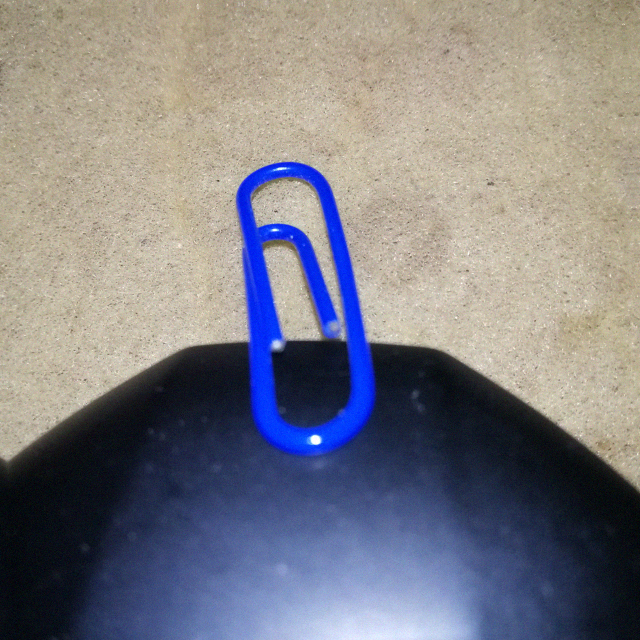pin: (234, 151, 374, 453)
